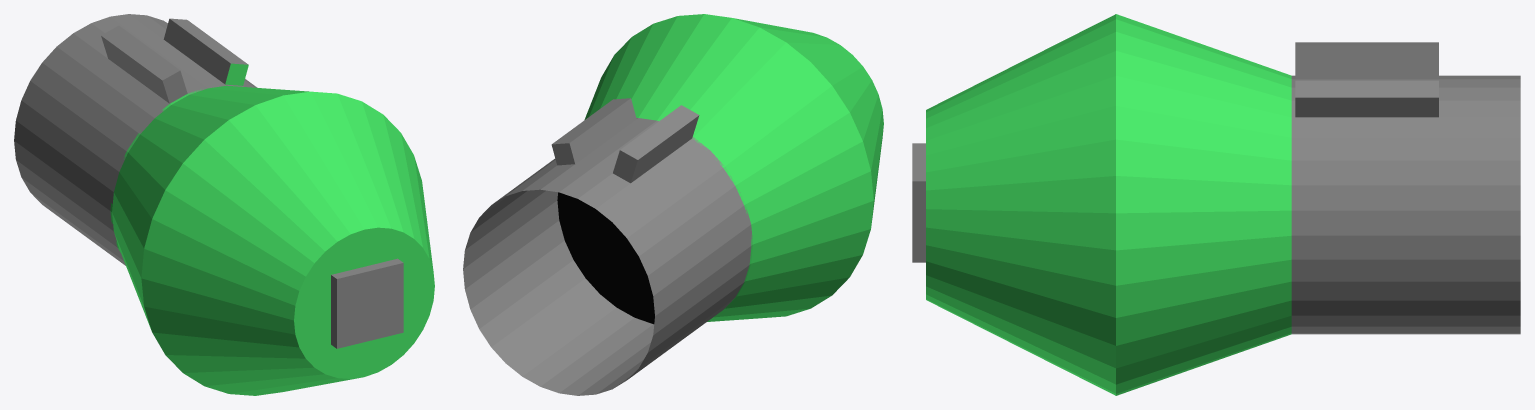
Rendered from LaserTurret.fbx.
The picture shows the model from 3 angles, left to right: view 1: azimuth 30°, elevation 25°; view 2: azimuth 150°, elevation 25°; view 3: azimuth 270°, elevation 25°; orthographic projection. The views are drawn at different scales.
Visible parts, largest first — view 1: LaserTurret; view 2: LaserTurret; view 3: LaserTurret.
Part boxes in pixels (x1,y1,x2,y2): LaserTurret: (14,14,434,395); LaserTurret: (463,14,883,395); LaserTurret: (912,14,1520,395).
Size of the model in its own units: 402 by 402 by 639.
